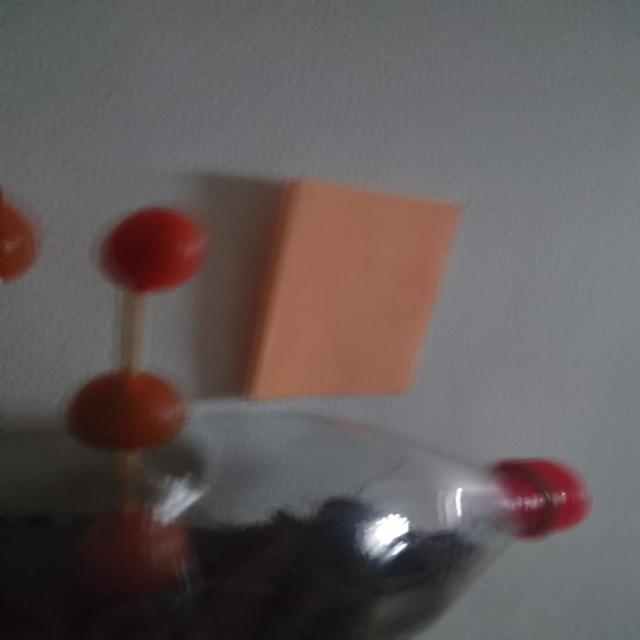card: (243, 181, 460, 400), (243, 181, 459, 399)
fruit_maturation: (78, 508, 189, 597), (0, 195, 35, 281)
fully_grown: (67, 370, 186, 451), (100, 207, 205, 293)
